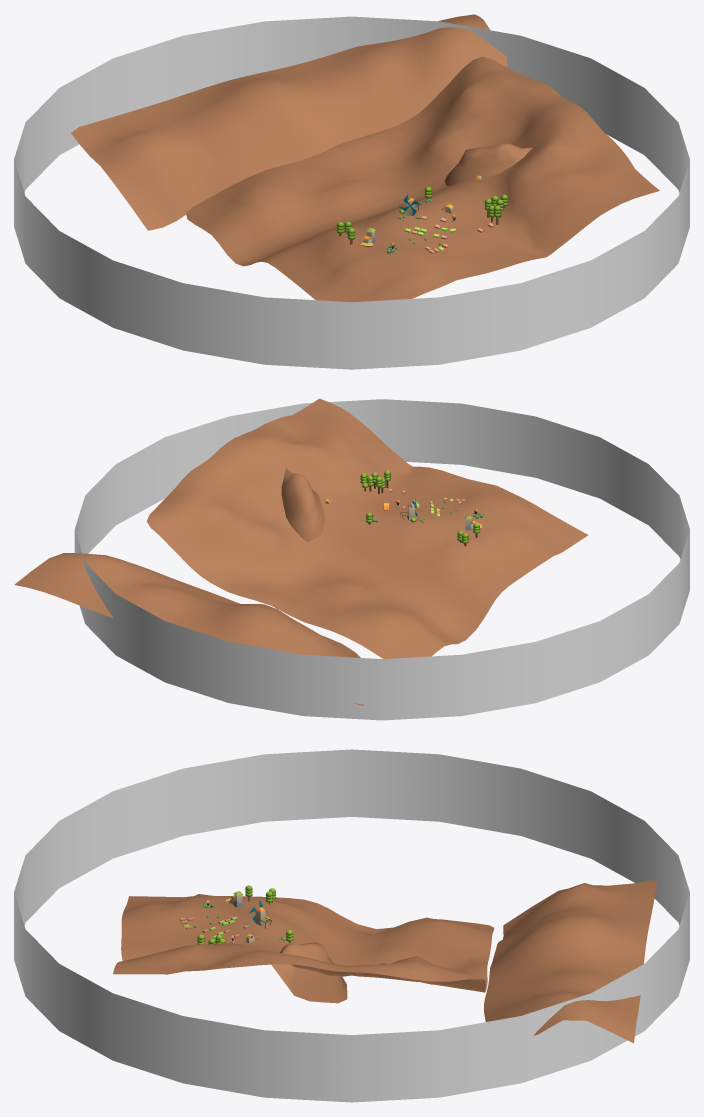
The model's file is Block_m5_new.fbx.
The picture shows the model from 3 angles, top to bottom: view 1: azimuth 30°, elevation 25°; view 2: azimuth 150°, elevation 25°; view 3: azimuth 270°, elevation 25°; orthographic projection. The views are drawn at different scales.
Parts seen in each view (by area): view 1: plane_tr, Ground, nuiBG, Nuiroi; view 2: plane_tr, Ground, nuiBG, Nuiroi; view 3: plane_tr, Ground, nuiBG, Nuiroi.
Boxes of the visible parts, <box> form: plane_tr: <box>14,16,689,369</box>; Ground: <box>186,56,659,302</box>; nuiBG: <box>71,14,507,230</box>; Nuiroi: <box>444,143,532,186</box>; plane_tr: <box>74,399,689,720</box>; Ground: <box>146,398,588,658</box>; nuiBG: <box>14,553,364,705</box>; Nuiroi: <box>281,468,325,542</box>; plane_tr: <box>14,749,689,1102</box>; Ground: <box>113,894,494,992</box>; nuiBG: <box>484,880,656,1043</box>; Nuiroi: <box>271,942,347,1003</box>.
Bounding box in the file's own units: 408 × 81.07 × 408.
